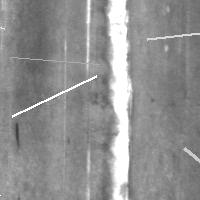scratches: (102, 1, 134, 199), (7, 71, 101, 121), (6, 52, 104, 69), (179, 143, 200, 193), (142, 28, 200, 44), (82, 1, 94, 75), (82, 140, 94, 200), (11, 118, 22, 149), (0, 7, 9, 34), (0, 159, 5, 200)
